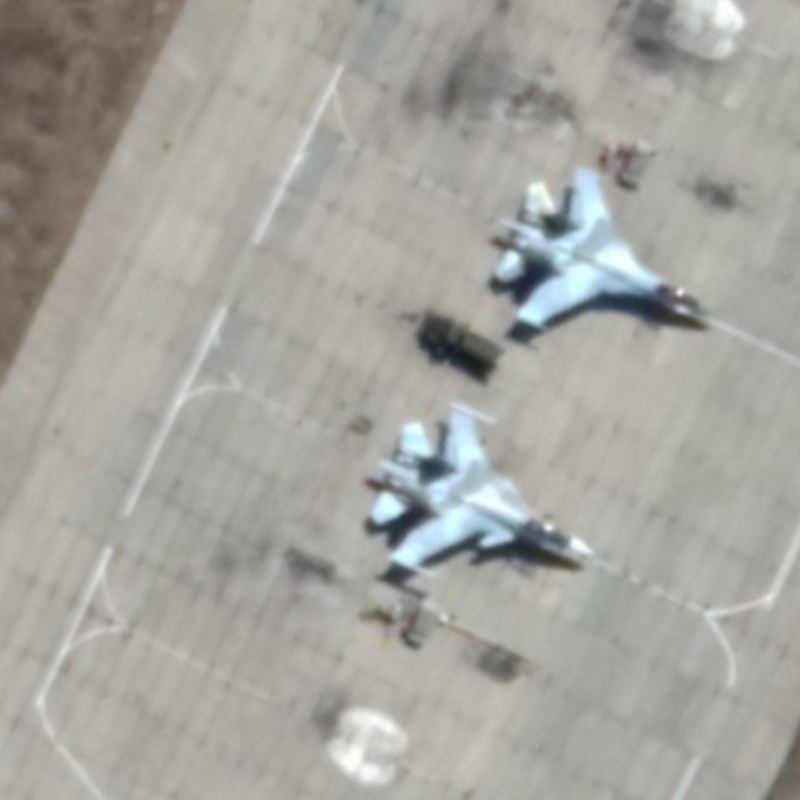A1: (487, 162, 713, 334)
A19: (365, 397, 601, 580)
